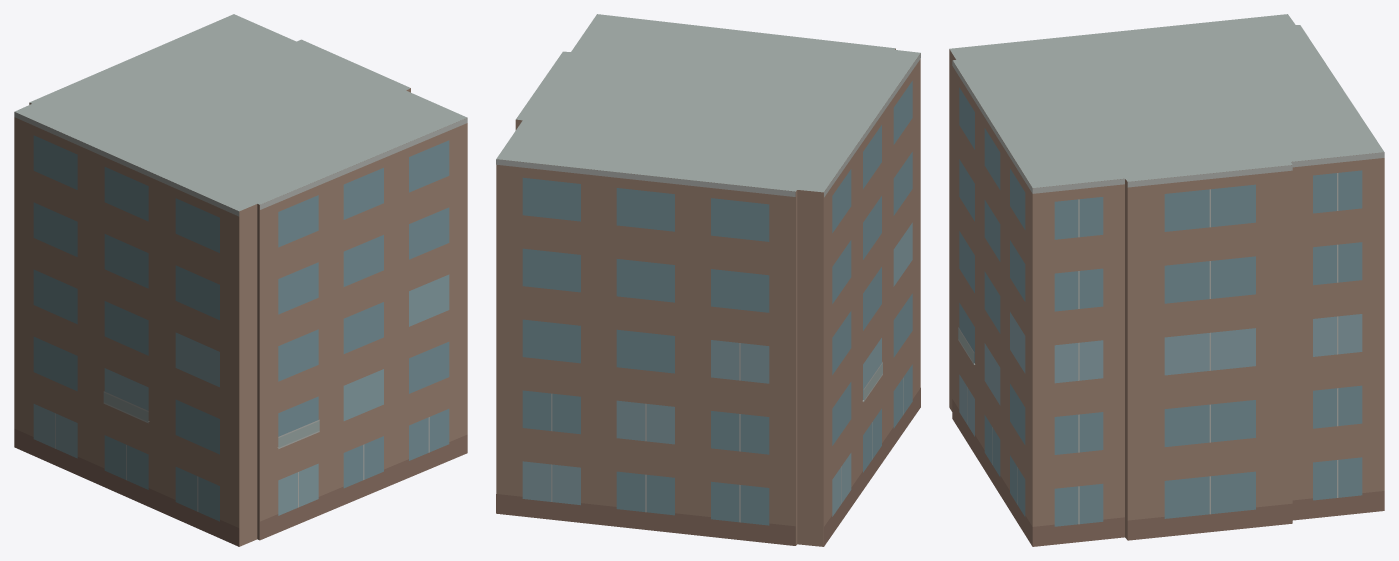
The model's file is survey-upis-32656719.glb.
The picture shows the model from 3 angles, left to right: view 1: azimuth 30°, elevation 25°; view 2: azimuth 150°, elevation 25°; view 3: azimuth 270°, elevation 25°; orthographic projection. The views are drawn at different scales.
Visible parts, largest first — view 1: survey-upis-32656719.tmp; view 2: survey-upis-32656719.tmp; view 3: survey-upis-32656719.tmp.
Boxes of the visible parts, left/top/right/bottom form: survey-upis-32656719.tmp: left=14, top=14, right=467, bottom=546; survey-upis-32656719.tmp: left=496, top=14, right=920, bottom=546; survey-upis-32656719.tmp: left=949, top=14, right=1384, bottom=546.
Size of the model in its own units: 16.07 by 15.42 by 16.97.
